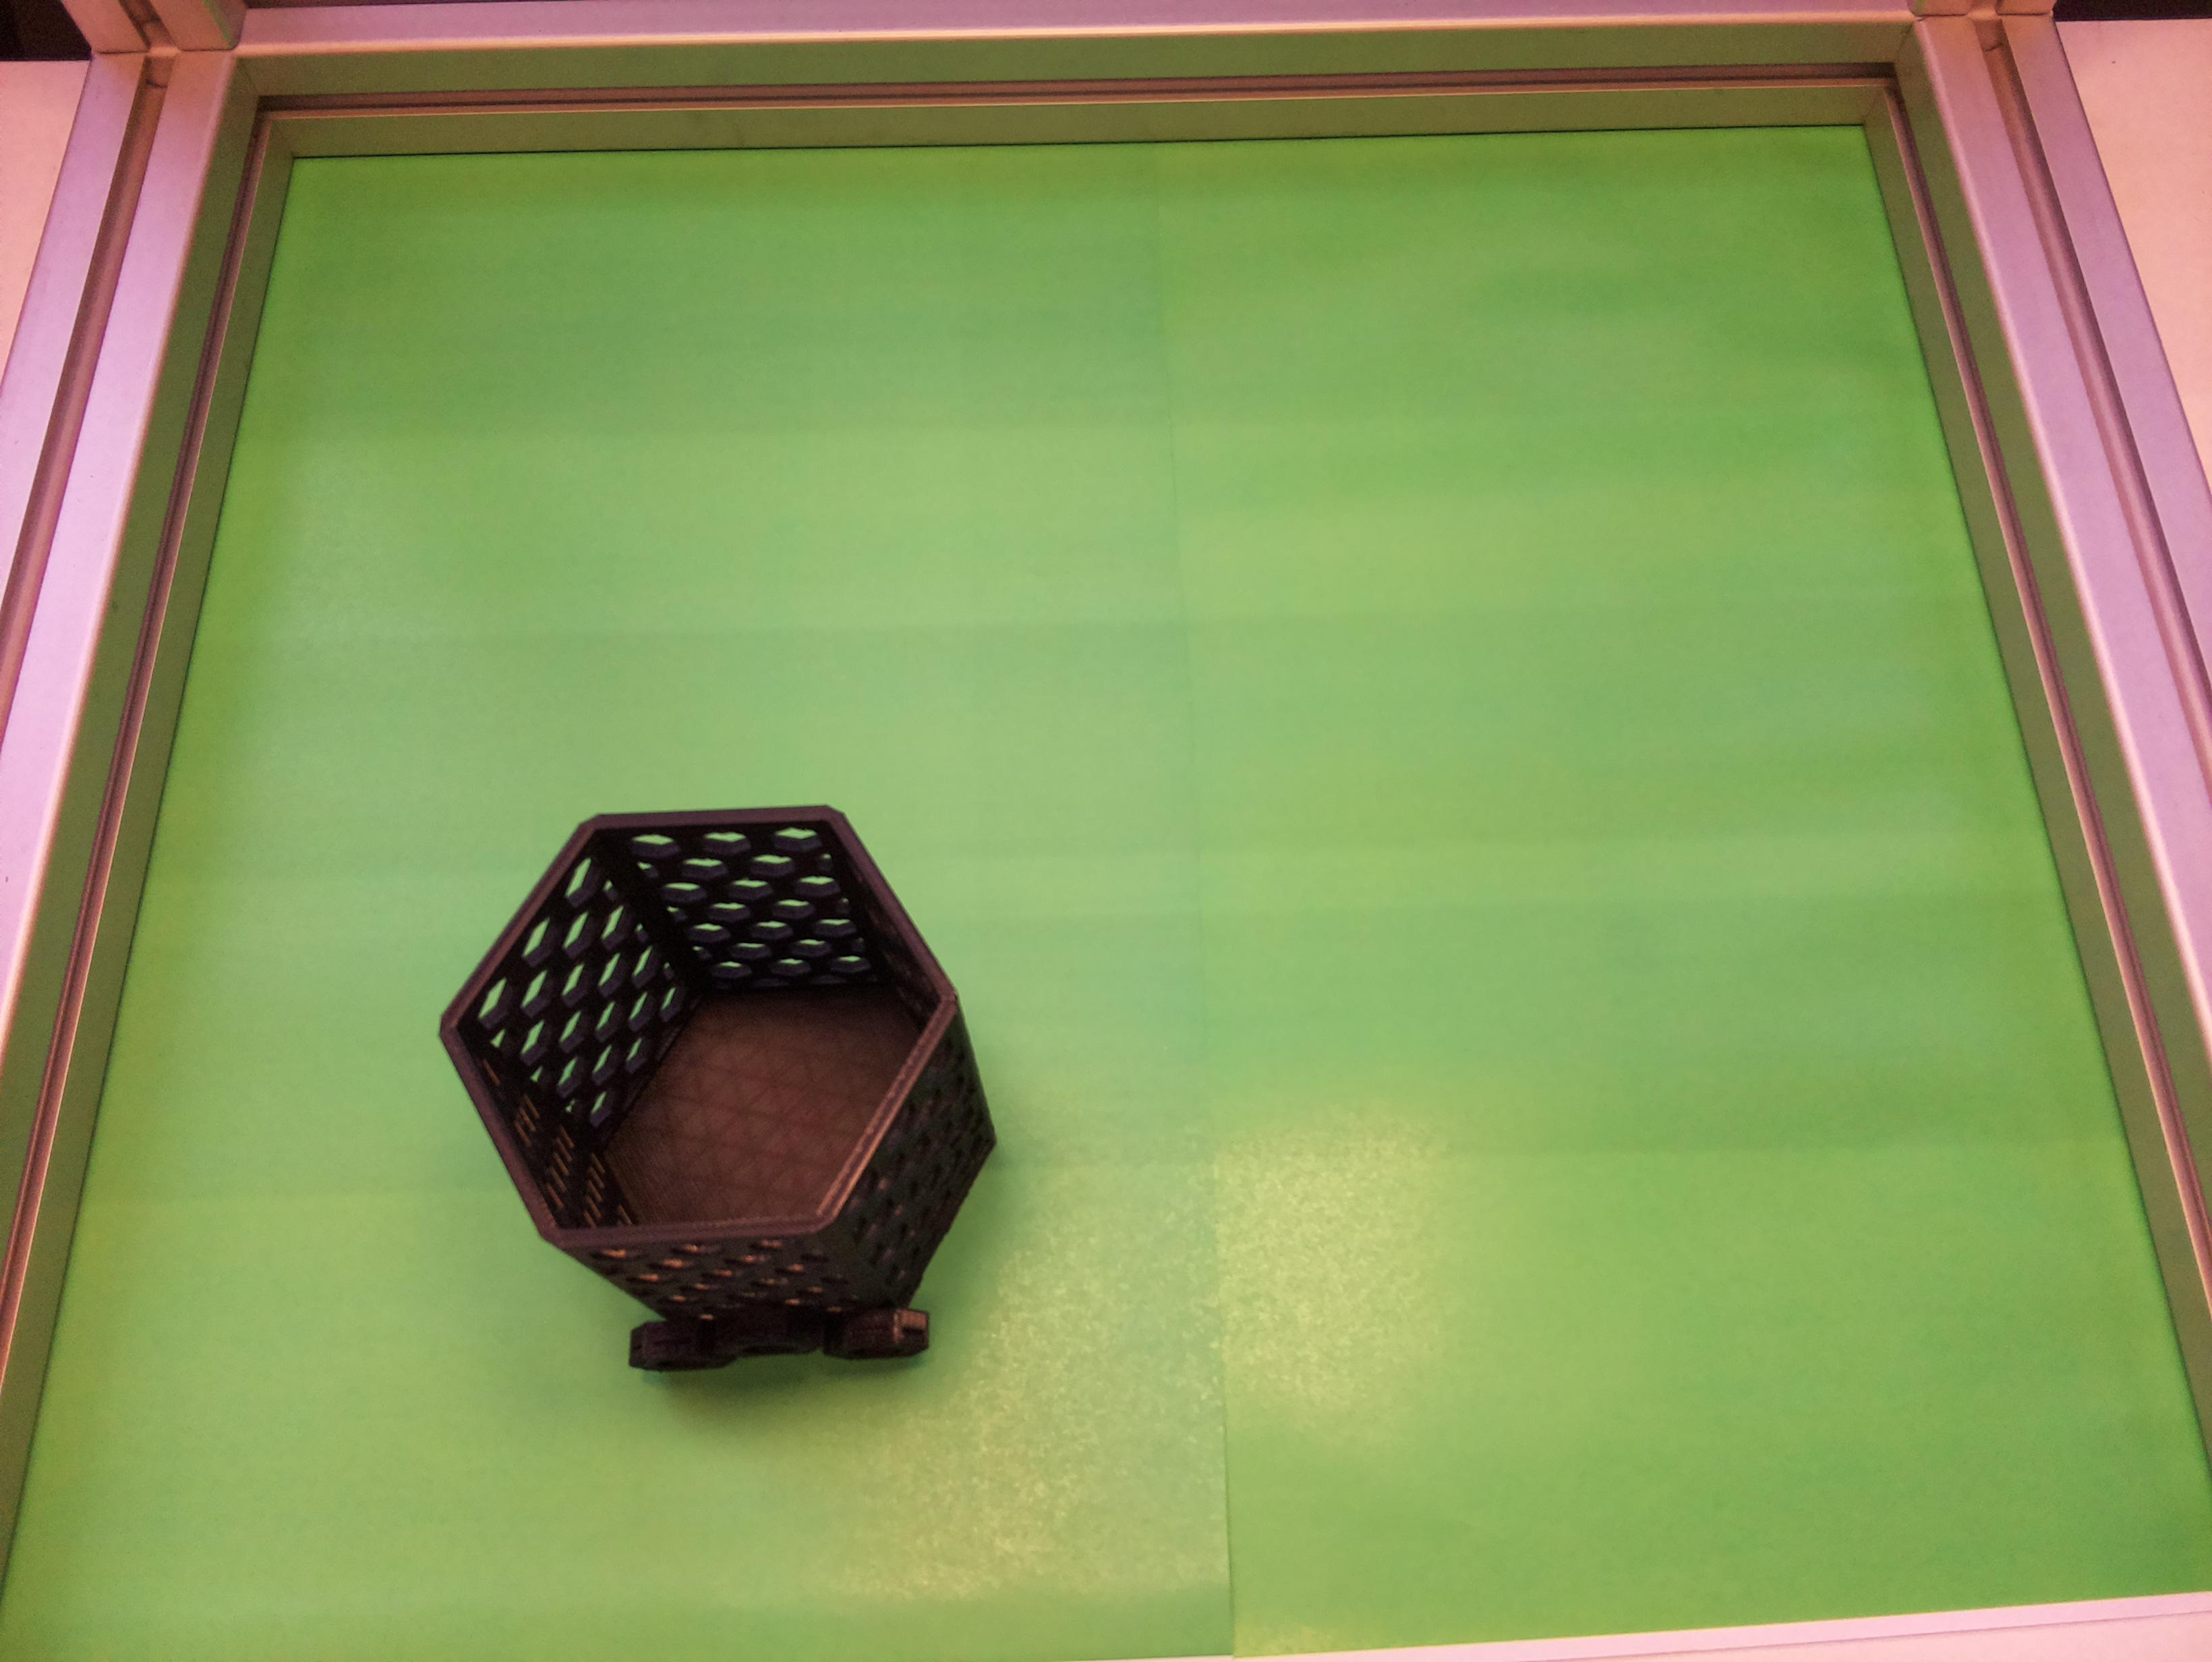cup_holder: (372, 704, 1103, 1486)
